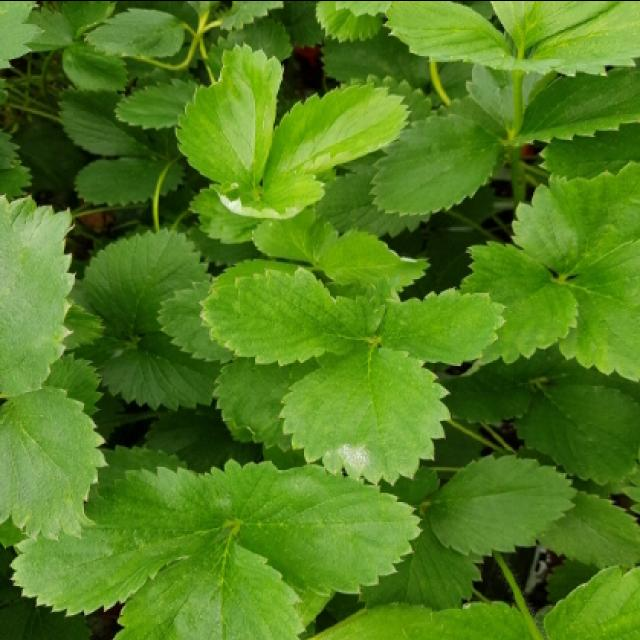Powdery Mildew Leaf: (276, 345, 450, 488), (217, 168, 326, 219)
